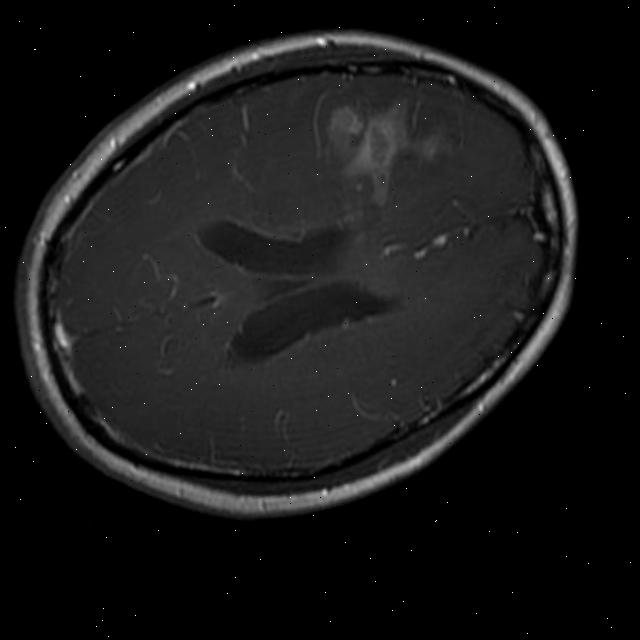Glioma: (317, 86, 451, 214)
